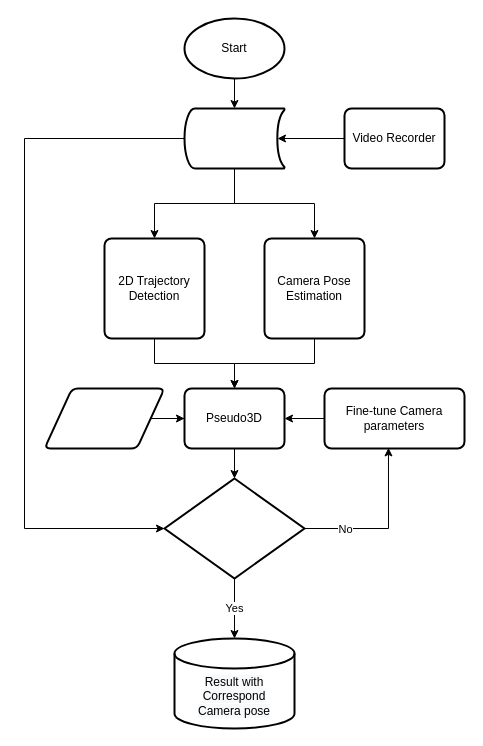
Image size: 483x746. Some labels were removed from this diagram. Each missing label, with the centre of its shape:
"Init Camera parameters" goes at point (104, 418).
"Satisfy Boundary Constrain" goes at point (234, 528).
"Video" goes at point (234, 138).
